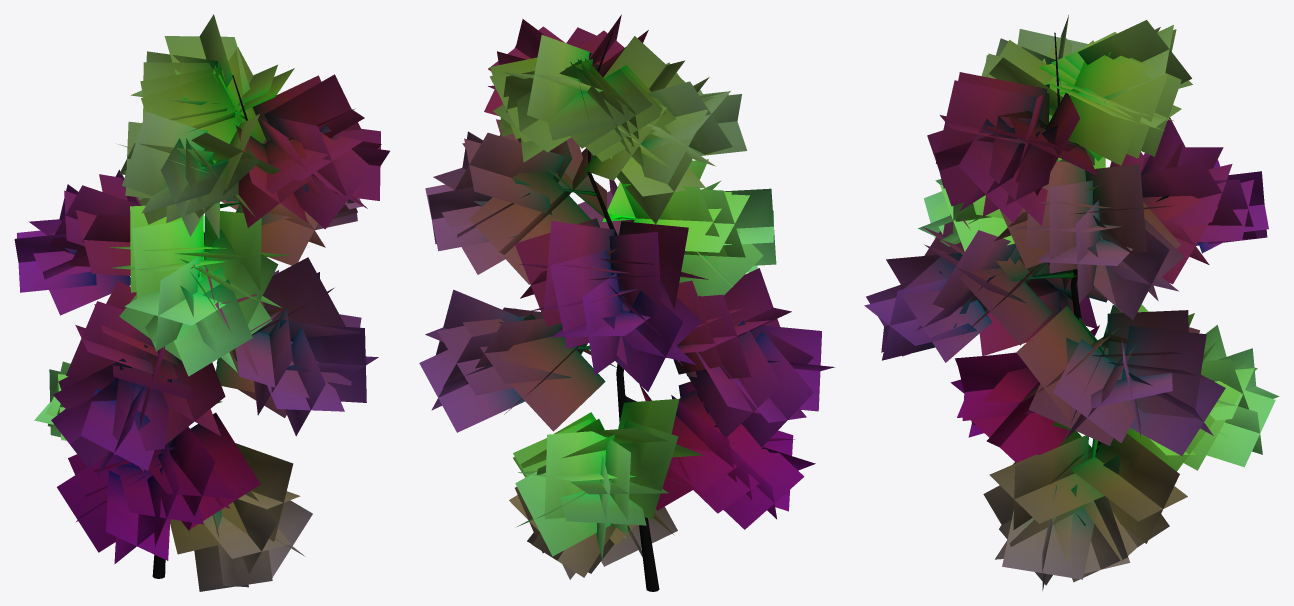
File: URP_P14_Tree_4_LOD_2.fbx
The picture shows the model from 3 angles, left to right: view 1: azimuth 30°, elevation 25°; view 2: azimuth 150°, elevation 25°; view 3: azimuth 270°, elevation 25°; orthographic projection. The views are drawn at different scales.
Parts seen in each view (by area): view 1: Tree_4_LOD_2; view 2: Tree_4_LOD_2; view 3: Tree_4_LOD_2.
Part boxes in pixels (left/top/right/bottom): Tree_4_LOD_2: left=14, top=14, right=389, bottom=591; Tree_4_LOD_2: left=419, top=14, right=834, bottom=591; Tree_4_LOD_2: left=864, top=15, right=1279, bottom=590.
Size of the model in its own units: 429 by 667 by 439.
